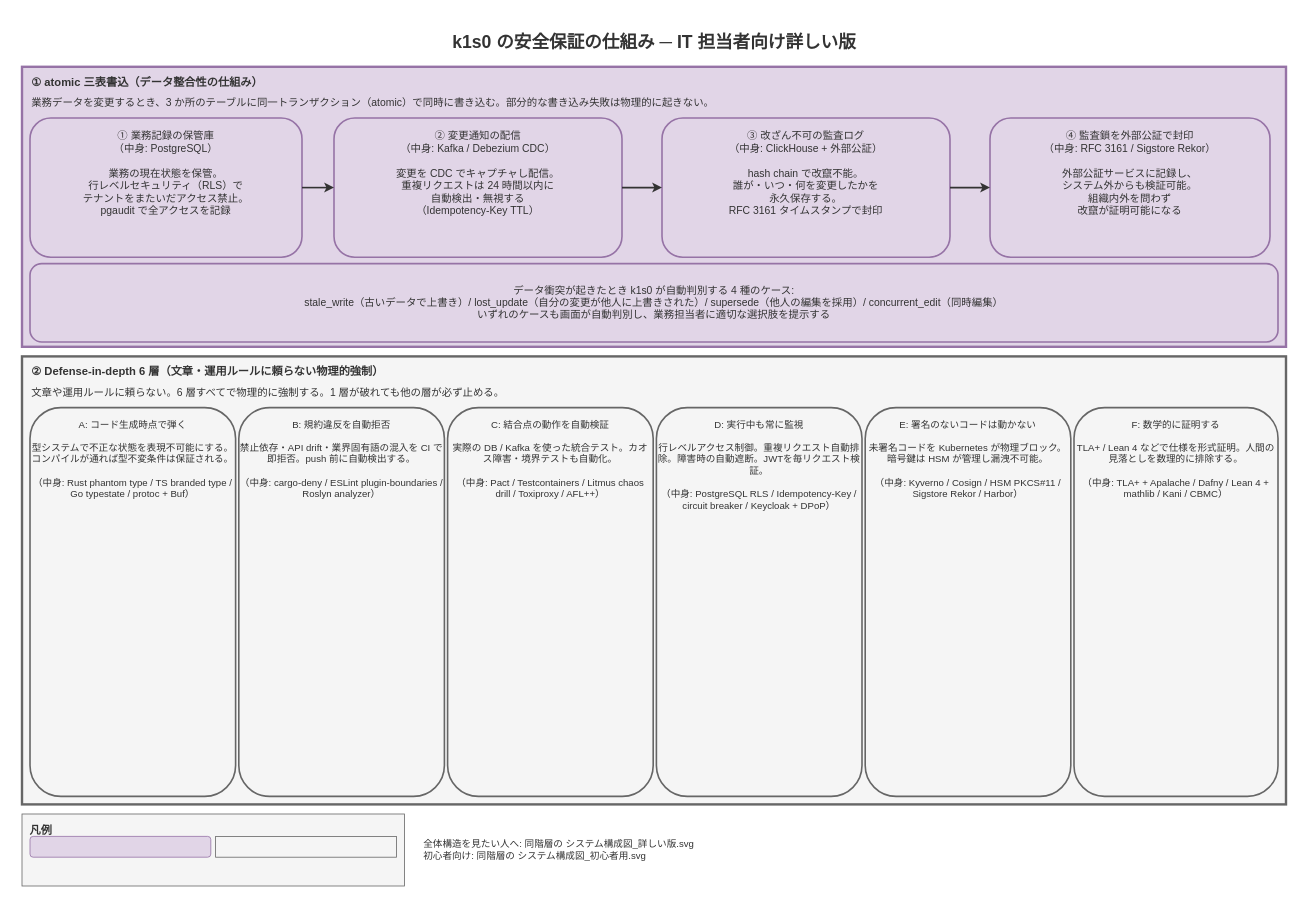
Image size: 1307x907. Some labels were removed from this diagram. The shapes that lost their labels are listed below. From the top down, each one's centre as x and y in pixels, then its label:
the point at 120,846: ■ データ整合性（データ層）
the point at 305,846: ■ 安全保証機構（インフラ層）
